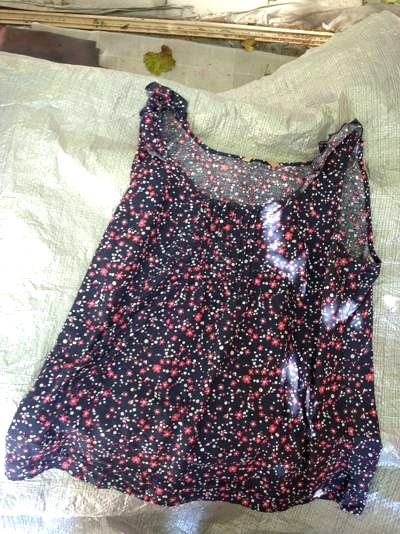Dress: (4, 85, 393, 503)
